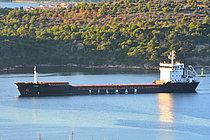Ship: (12, 46, 203, 104)
